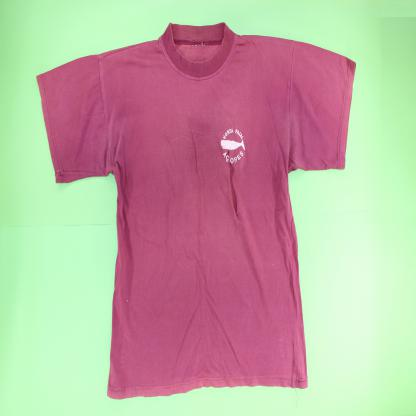hole: (226, 146, 240, 219)
